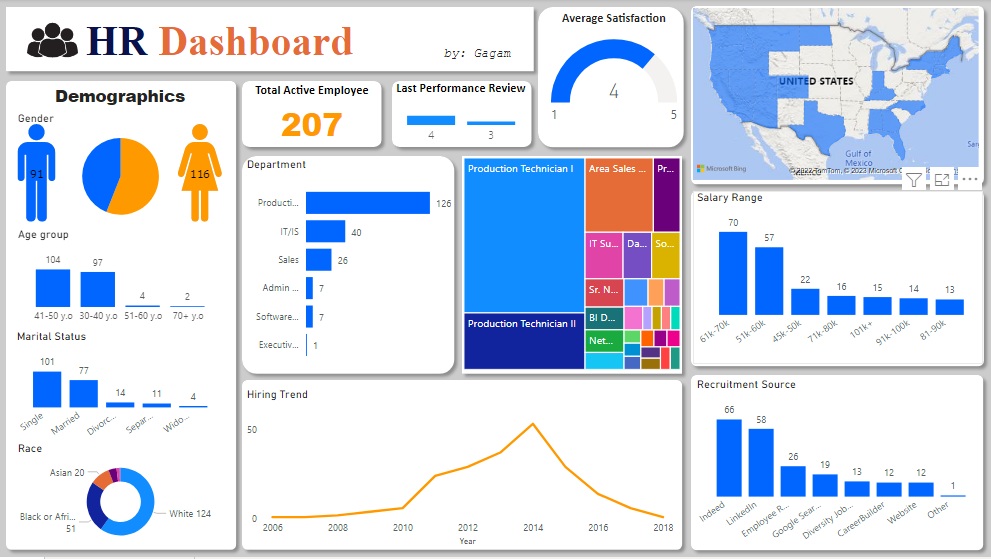

What the dashboard file says about the page in this screenshot:
{"tool":"powerbi","page":{"name":"HR dashboard","canvas":[1280,720],"ordinal":0},"visuals":[{"type":"shape","box":[0,96.8,314.8,623.2],"z":0},{"type":"shape","box":[304.7,96.4,198.4,103.5],"z":1000},{"type":"shape","box":[304.5,193.5,291.6,299.4],"z":2000},{"type":"shape","box":[588.4,193.5,301.9,299.4],"z":3000},{"type":"shape","box":[883.9,0,396.1,247.7],"z":4000},{"type":"shape","box":[883.9,238.7,396.1,243.9],"z":5000},{"type":"shape","box":[884.4,476.2,395.4,243.8],"z":6000},{"type":"shape","box":[304.5,482.6,585.8,237.4],"z":7000},{"type":"shape","box":[686.5,1.3,206.5,198.7],"z":8000},{"type":"card","title":"Total Active Employee","fields":{"Values":["All Measure.Total Emp"]},"box":[316.1,107.1,175.5,89],"z":9000},{"type":"treemap","fields":{"Group":["Position.Positon Name"],"Values":["CountNonNull(HR_Data.PositionID)"]},"box":[594.8,200,289,282.6],"z":10000},{"type":"clusteredBarChart","title":"Department","fields":{"Category":["Department.Department_Name"],"Y":["CountNonNull(HR_Data.DepartmentID)"]},"box":[314.8,205.2,273.5,276.1],"z":11000},{"type":"textbox","box":[54.2,104.5,203.9,47.7],"z":12000},{"type":"PBI_CV_73744D90_4DC9_4F18_8BA5_EE8FA5C98035","fields":{"Values":["All Measure.Male"]},"box":[10.3,148.4,76.1,152.3],"z":13000},{"type":"PBI_CV_73744D90_4DC9_4F18_8BA5_EE8FA5C98035","fields":{"Values":["All Measure.Female"]},"box":[214.2,148.4,90.3,152.3],"z":14000},{"type":"donutChart","title":"Race","fields":{"Y":["CountNonNull(HR_Data.RaceDesc)"],"Category":["HR_Data.RaceDesc"]},"box":[19.4,571.6,274.8,138.1],"z":15000},{"type":"clusteredColumnChart","title":"Marital Status","fields":{"Category":["HR_Data.MaritalDesc"],"Y":["CountNonNull(HR_Data.EmpID)"]},"box":[18.1,427.1,276.1,149.7],"z":16000},{"type":"clusteredColumnChart","title":"Age group","fields":{"Category":["HR_Data.Age group"],"Y":["CountNonNull(HR_Data.EmpID)"]},"box":[19.4,295.5,276.1,131.6],"z":17000},{"type":"gauge","fields":{"Y":["All Measure.Average Satisfaction"]},"box":[707.2,14.2,172.9,168.7],"z":18000},{"type":"clusteredColumnChart","title":"Recruitment Source","fields":{"Category":["HR_Data.RecruitmentSource"],"Y":["CountNonNull(HR_Data.EmpID)"]},"box":[895.7,489,374.2,221.1],"z":19000},{"type":"filledMap","fields":{"Category":["HR_Data.State"]},"box":[890.3,6.5,379.4,232.3],"z":20000},{"type":"clusteredColumnChart","title":"Salary Range","fields":{"Category":["HR_Data.Salary Range"],"Y":["CountNonNull(HR_Data.EmpID)"]},"box":[895.7,248,374.2,222.5],"z":21000},{"type":"pieChart","title":"Gender","fields":{"Y":["CountNonNull(HR_Data.EmpID)"],"Category":["HR_Data.Sex"]},"box":[19.4,145.8,274.8,149.7],"z":22000},{"type":"lineChart","title":"Hiring Trend","fields":{"Y":["CountNonNull(HR_Data.EmpID)"],"Category":["HR_Data.DateofHire.Variation.Date Hierarchy.Year"]},"box":[314.8,501.9,560,207.7],"z":23000},{"type":"shape","box":[0,1.3,699.4,100.6],"z":24000},{"type":"textbox","box":[107.7,18.4,372.8,83.6],"z":25000},{"type":"textbox","box":[562.7,55.3,109.1,38.3],"z":26000},{"type":"image","box":[18.4,0,102,104.9],"z":27000},{"type":"shape","box":[497.5,96.4,198.4,103.5],"z":28000},{"type":"PBI_CV_73744D90_4DC9_4F18_8BA5_EE8FA5C98035","title":"Last Performance Review","fields":{"Category":["HR_Data.LastPerformanceReview (in years)"],"Values":["CountNonNull(HR_Data.EmpID)"]},"box":[505.8,104.5,180.6,90.3],"z":29000}]}

Visuals, with their boxes in screenshot pixels (x1, y1, x2, y2), scaled from the page's 1280x720 canvas onto the 991x559 screenshot:
shape: 0:75:244:558
shape: 236:75:390:155
shape: 236:150:462:383
shape: 456:150:689:383
shape: 684:0:990:192
shape: 684:185:990:375
shape: 685:370:990:558
shape: 236:375:689:558
shape: 532:1:691:155
"Total Active Employee" card: 245:83:381:152
treemap - Position.Positon Name x CountNonNull(HR_Data.PositionID): 461:155:684:375
"Department" clusteredBarChart: 244:159:455:374
textbox: 42:81:200:118
PBI_CV_73744D90_4DC9_4F18_8BA5_EE8FA5C98035 - All Measure.Male: 8:115:67:233
PBI_CV_73744D90_4DC9_4F18_8BA5_EE8FA5C98035 - All Measure.Female: 166:115:236:233
"Race" donutChart: 15:444:228:551
"Marital Status" clusteredColumnChart: 14:332:228:448
"Age group" clusteredColumnChart: 15:229:229:332
gauge - All Measure.Average Satisfaction: 548:11:681:142
"Recruitment Source" clusteredColumnChart: 693:380:983:551
filledMap - HR_Data.State: 689:5:983:185
"Salary Range" clusteredColumnChart: 693:193:983:365
"Gender" pieChart: 15:113:228:229
"Hiring Trend" lineChart: 244:390:677:551
shape: 0:1:541:79
textbox: 83:14:372:79
textbox: 436:43:520:73
image: 14:0:93:81
shape: 385:75:539:155
"Last Performance Review" PBI_CV_73744D90_4DC9_4F18_8BA5_EE8FA5C98035: 392:81:531:151
